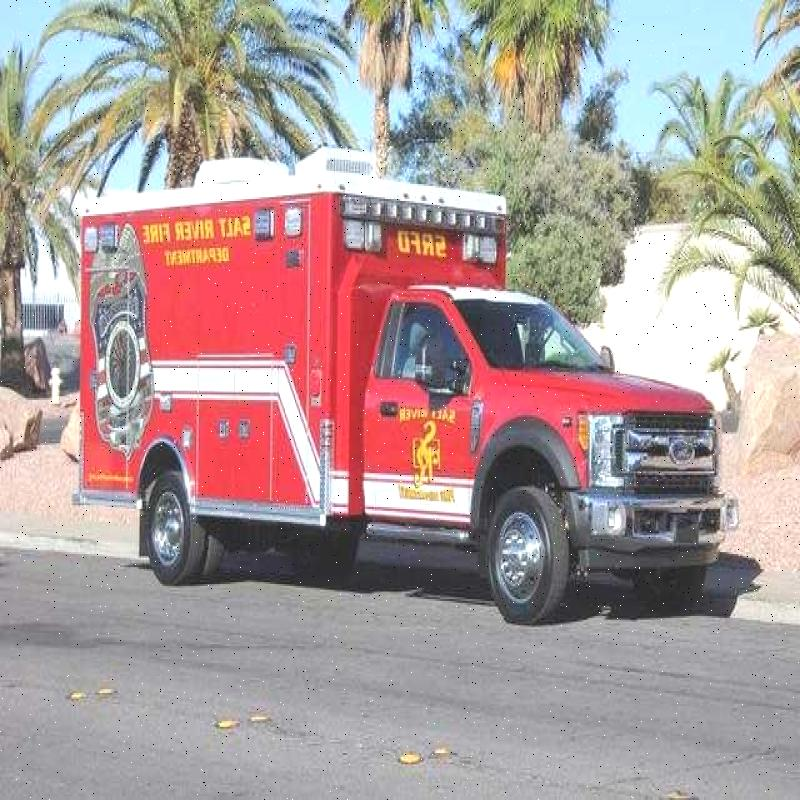AmbulanceSiren: (324, 183, 525, 247)
